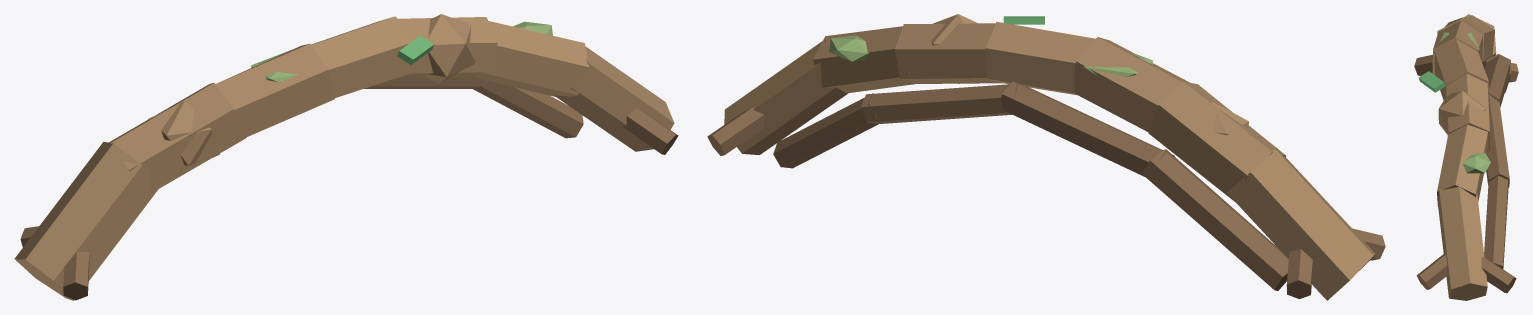
Rendered from StumbleRoot.fbx.
The picture shows the model from 3 angles, left to right: view 1: azimuth 30°, elevation 25°; view 2: azimuth 150°, elevation 25°; view 3: azimuth 270°, elevation 25°; orthographic projection. The views are drawn at different scales.
Visible parts, largest first — view 1: StumbleRoot; view 2: StumbleRoot; view 3: StumbleRoot.
Boxes of the visible parts, x1=… form: StumbleRoot: x1=14, y1=14, x2=678, y2=300; StumbleRoot: x1=707, y1=14, x2=1385, y2=300; StumbleRoot: x1=1414, y1=14, x2=1518, y2=300.
Size of the model in its own units: 2.15 by 0.6379 by 0.4082.
